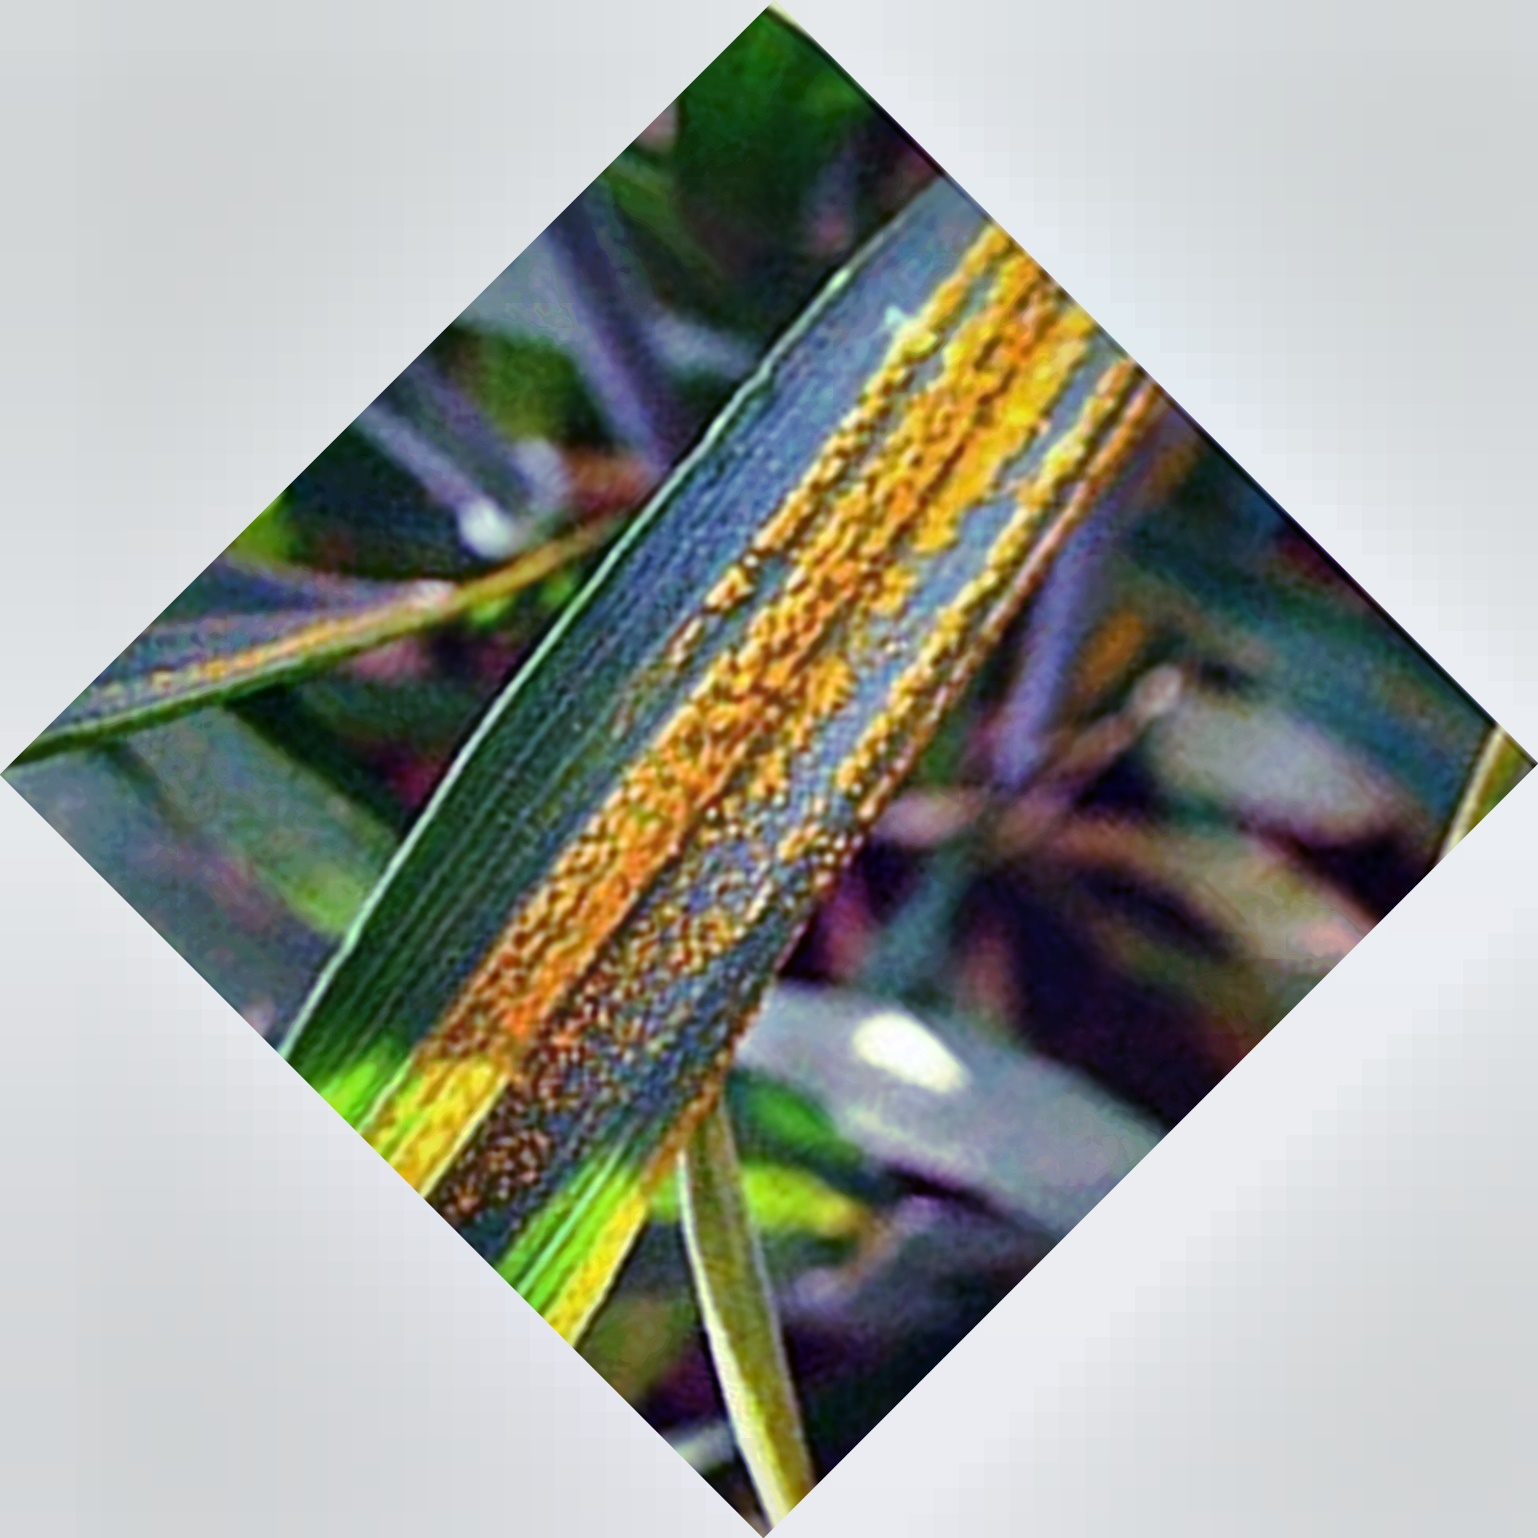Leaf Rust: (499, 242, 1101, 1175)
